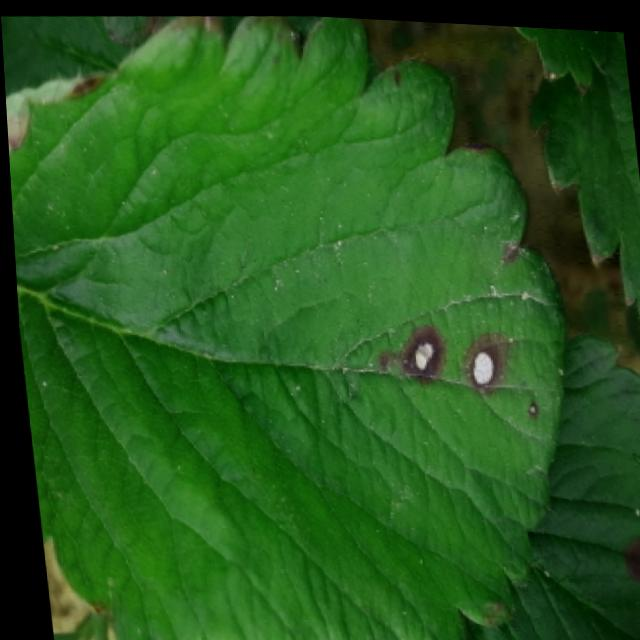Leaf Spot: (9, 13, 562, 640), (459, 330, 640, 640), (529, 25, 640, 326), (7, 69, 117, 203)
